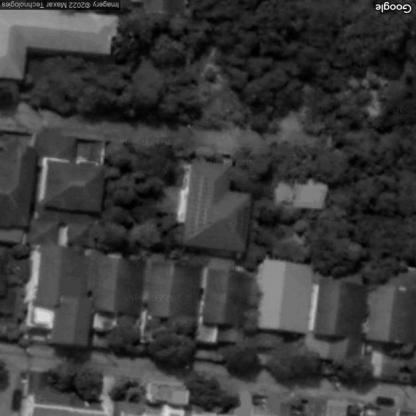solar-pv-panel: (185, 170, 212, 236)
